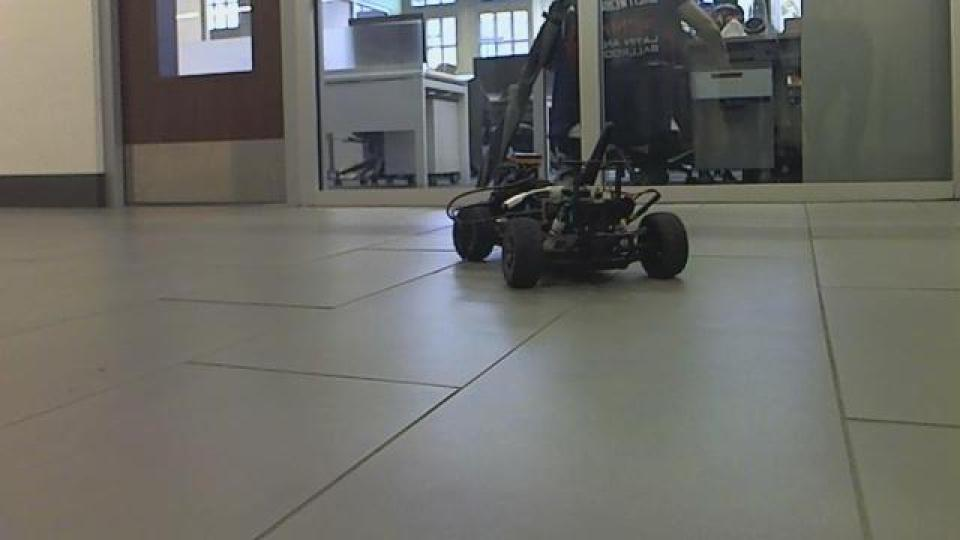car: (442, 121, 691, 291)
